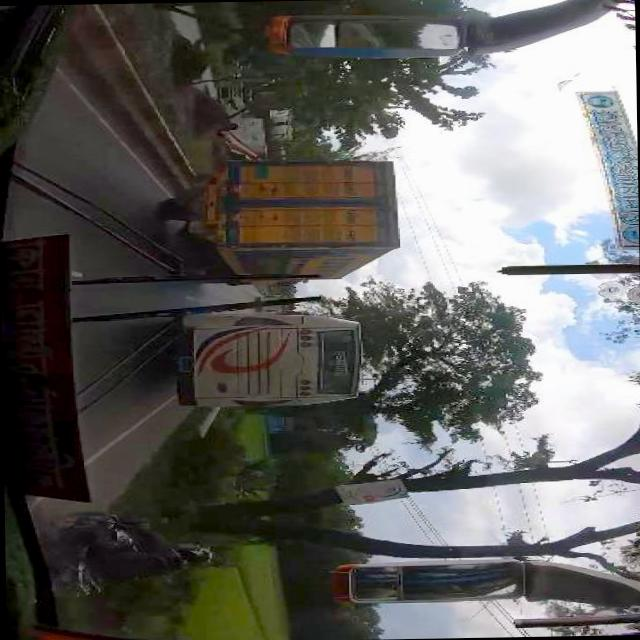bus: (172, 312, 368, 410), (217, 80, 296, 160)
motorcycle: (47, 508, 229, 602)
truck: (159, 158, 405, 290)
